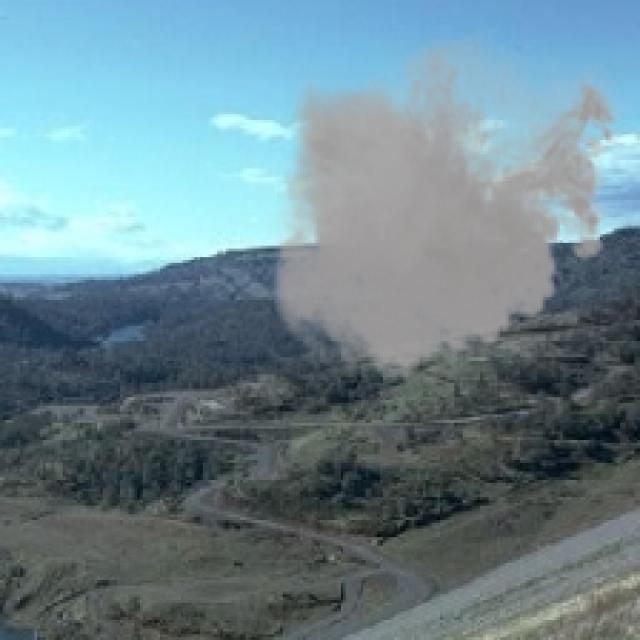Smoke: (260, 22, 629, 394)
